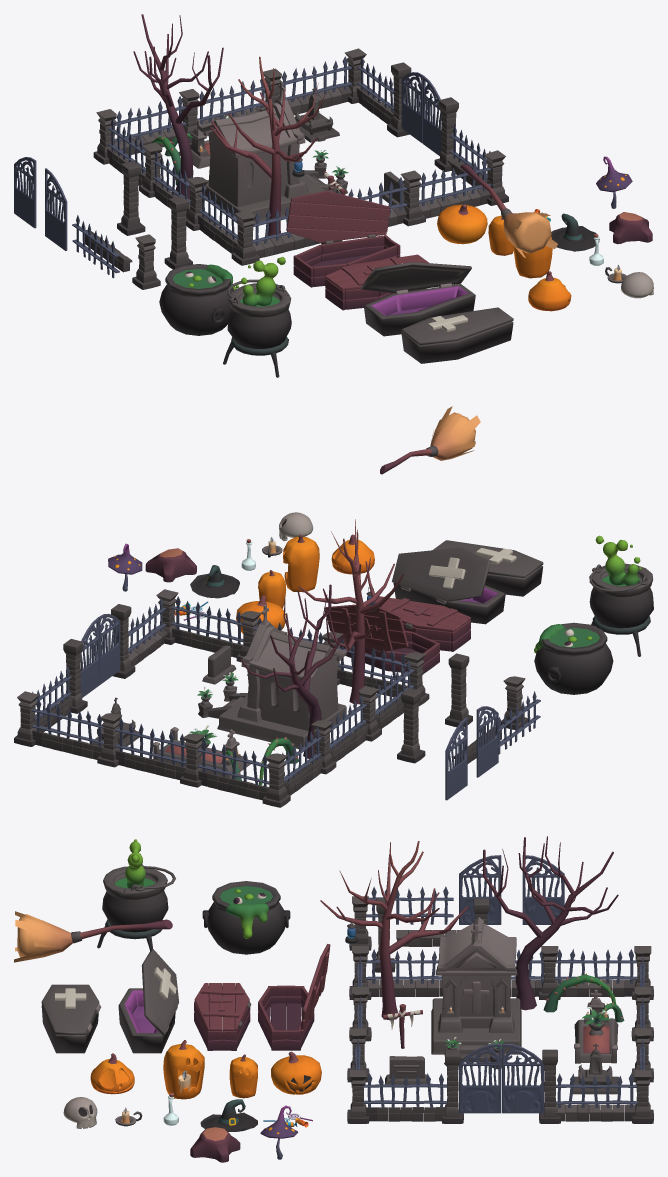
The model's file is Halloween_Pack_01.fbx.
3 views of the same model, one above another, from view 1: azimuth 30°, elevation 25°; view 2: azimuth 150°, elevation 25°; view 3: azimuth 270°, elevation 25° (orthographic). The views are drawn at different scales.
Visible parts, largest first — view 1: Tomb.02, Coffin.01, Caldron.02, Caldron.01, Coffin.02_Lid, Coffin.01_Open, Tree.01, Coffin.02_open, Tree.02, Coffin.01_Lid, Coffin.02, Broom (+46 smaller); view 2: Tomb.02, Caldron.02, Caldron.01, Coffin.01_Lid, Tree.02, Tree.01, Coffin.02, Coffin.01, Coffin.02_Lid, Broom, Coffin.01_Open, Jack-o-Lantern.02 (+46 smaller); view 3: Tomb.02, Caldron.02, Caldron.01, Tree.02, Tree.01, Coffin.01, Coffin.02, Coffin.02_open, Broom, Gate_Right, Gate_Left, Coffin.01_Lid (+40 smaller).
Boxes of the visible parts, x1,y1,x2,y2 form: Tomb.02: (198,81,347,222); Coffin.01: (401,307,513,363); Caldron.02: (159,264,236,335); Caldron.01: (227,257,291,348); Coffin.02_Lid: (286,190,390,242); Coffin.01_Open: (364,283,475,336); Tree.01: (210,56,325,235); Coffin.02_open: (293,234,400,287); Tree.02: (133,14,223,199); Coffin.01_Lid: (360,262,471,292); Coffin.02: (325,254,429,310); Broom: (460,164,557,257); Tomb.02: (198,604,346,748); Caldron.02: (534,622,613,694); Caldron.01: (589,535,653,628); Coffin.01_Lid: (392,547,490,601); Tree.02: (240,584,350,758); Tree.01: (298,519,403,704); Coffin.02: (374,596,470,651); Coffin.01: (432,540,543,596); Coffin.02_Lid: (324,604,408,651); Broom: (380,406,480,474); Coffin.01_Open: (393,583,505,624); Jack-o-Lantern.02: (283,534,319,592); Tomb.02: (431,917,521,1069); Caldron.02: (202,881,290,954); Caldron.01: (102,839,175,932); Tree.02: (483,836,618,1010); Tree.01: (320,841,468,1020); Coffin.01: (41,984,100,1053); Coffin.02: (194,983,251,1050); Coffin.02_open: (258,985,314,1050); Broom: (14,911,172,962); Gate_Right: (502,1043,544,1113); Gate_Left: (459,1043,501,1113); Coffin.01_Lid: (141,949,179,1035).
Size of the model in its own units: 3757 by 1291 by 4230.
